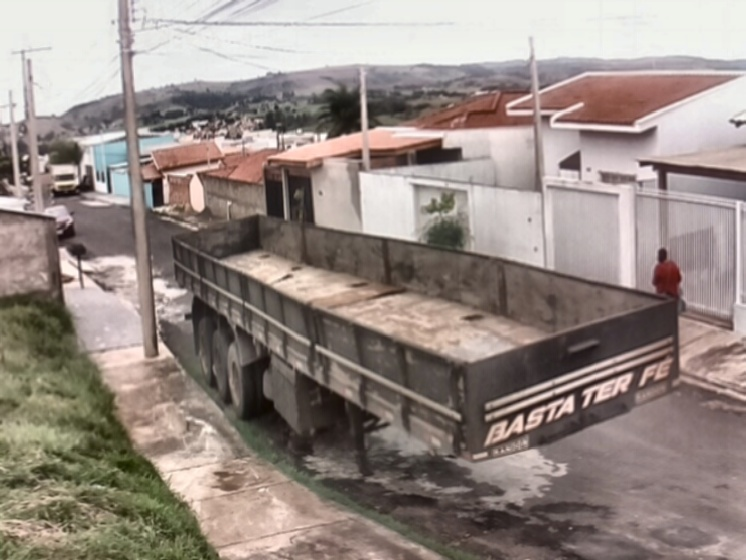person: (651, 247, 685, 310)
